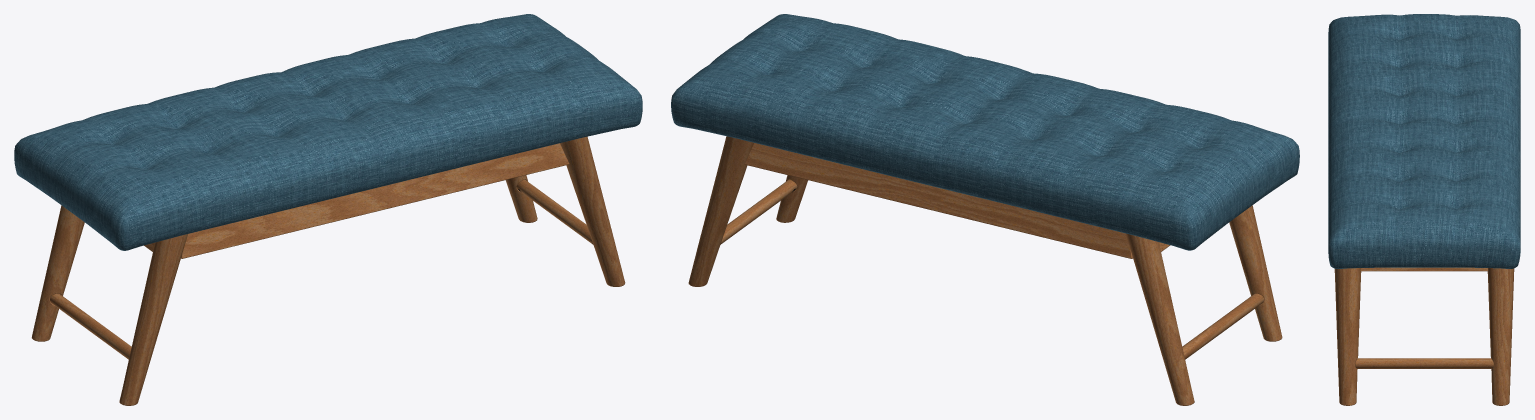
3 renders of one model, left to right at view 1: azimuth 30°, elevation 25°; view 2: azimuth 150°, elevation 25°; view 3: azimuth 270°, elevation 25°, orthographic. The views are drawn at different scales.
Parts seen in each view (by area): view 1: RootNode; view 2: RootNode; view 3: RootNode.
Part boxes in pixels (bbox=[...]): RootNode: bbox=[14, 14, 642, 405]; RootNode: bbox=[671, 14, 1299, 405]; RootNode: bbox=[1328, 14, 1520, 405].
Bounding box in the file's own units: 1.12 × 0.4318 × 0.4065.
Materials: 1 (1 with a texture image).
